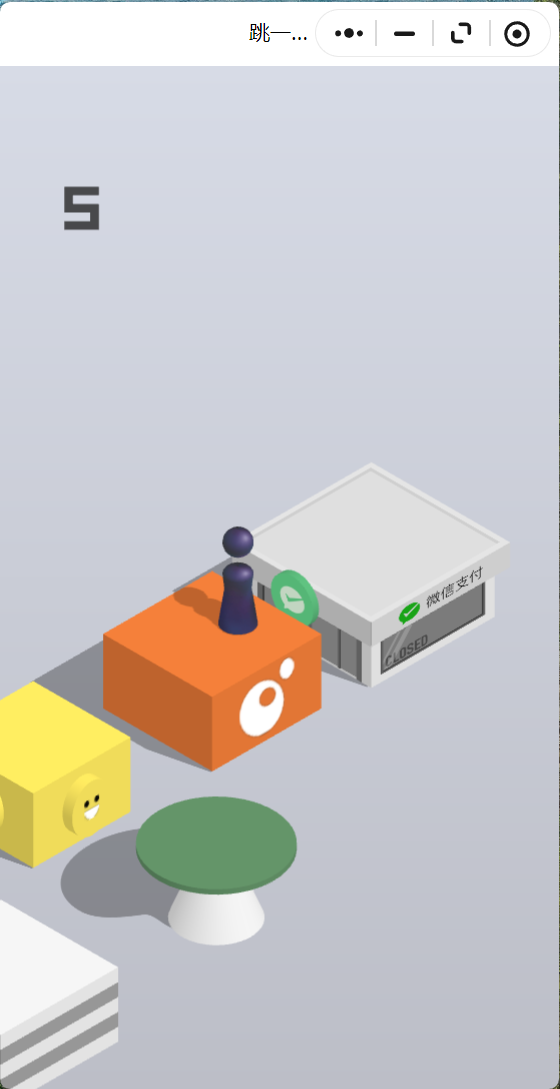piece: (221, 526, 253, 631)
target: (242, 461, 508, 621)
